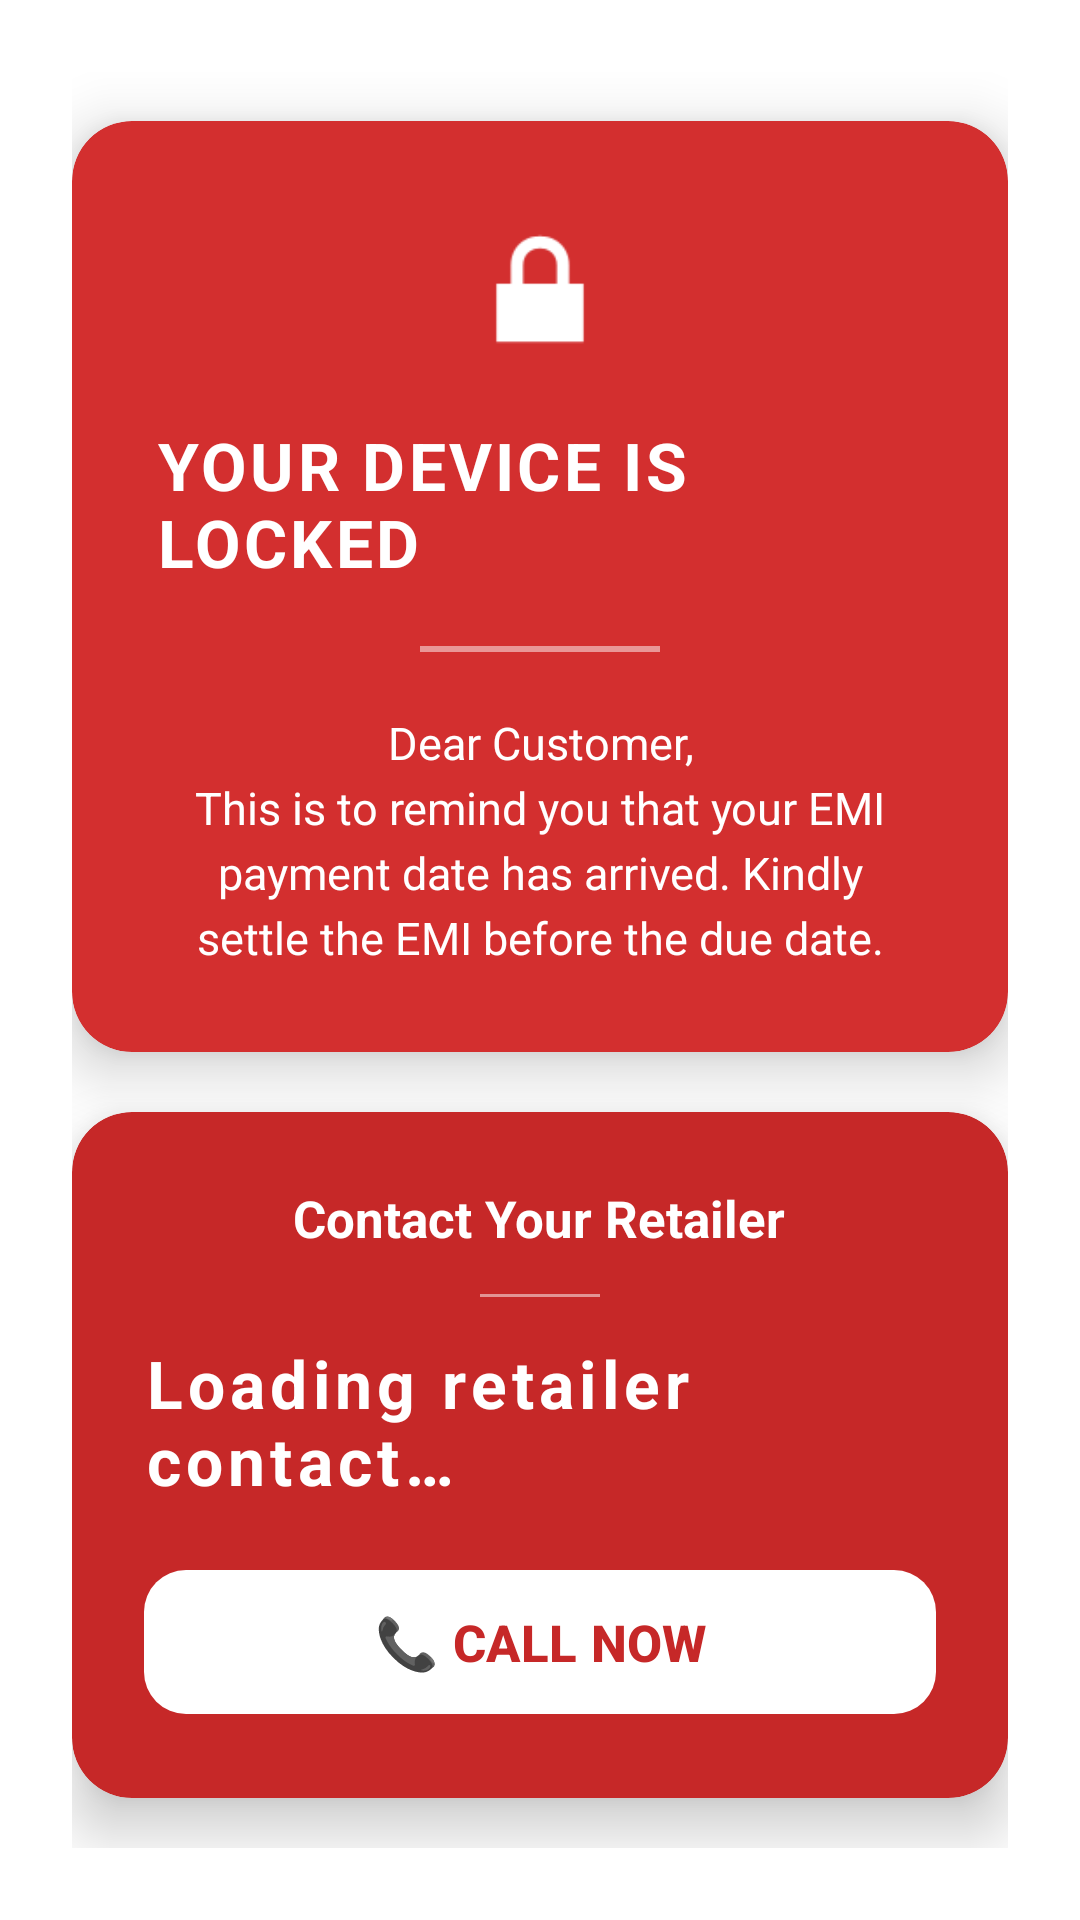

Point at icon controls on the screen. Image size 1080px x 1920px, points as [x,y].
Lock icon: [540,289]
